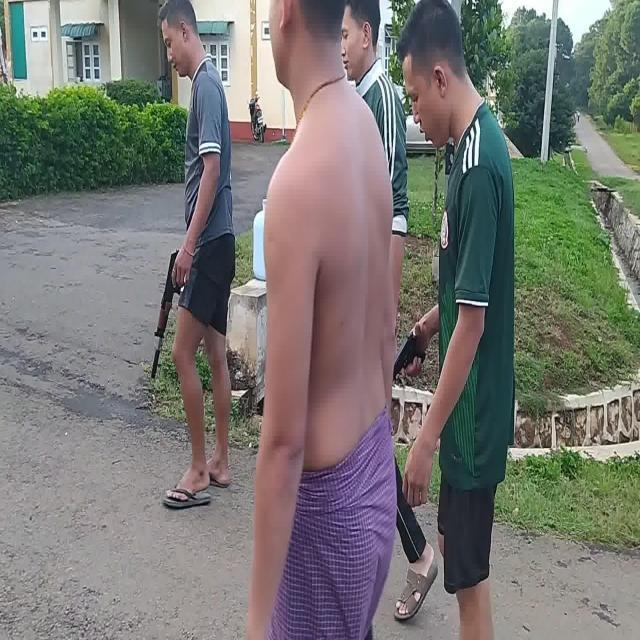gun: (150, 251, 186, 377), (393, 333, 426, 382)
